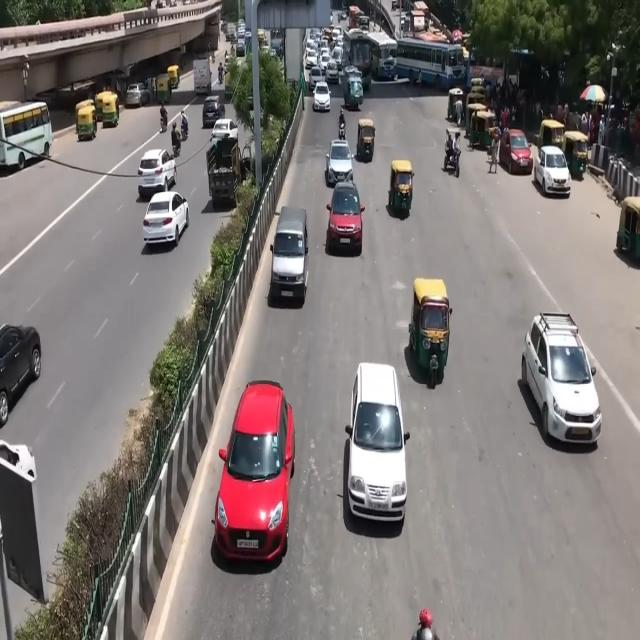auto: (410, 279, 452, 385), (387, 158, 414, 218), (615, 194, 639, 261), (562, 130, 590, 179), (342, 67, 364, 110), (95, 91, 120, 126), (75, 100, 97, 139), (356, 117, 375, 162), (477, 109, 498, 148), (447, 86, 465, 124), (156, 74, 172, 102), (167, 64, 180, 90), (257, 28, 266, 46)
bike-auto: (338, 104, 347, 150), (171, 122, 181, 154), (338, 108, 346, 137), (180, 110, 188, 139), (160, 103, 168, 132), (218, 63, 224, 84), (207, 42, 213, 63), (224, 50, 229, 64)
